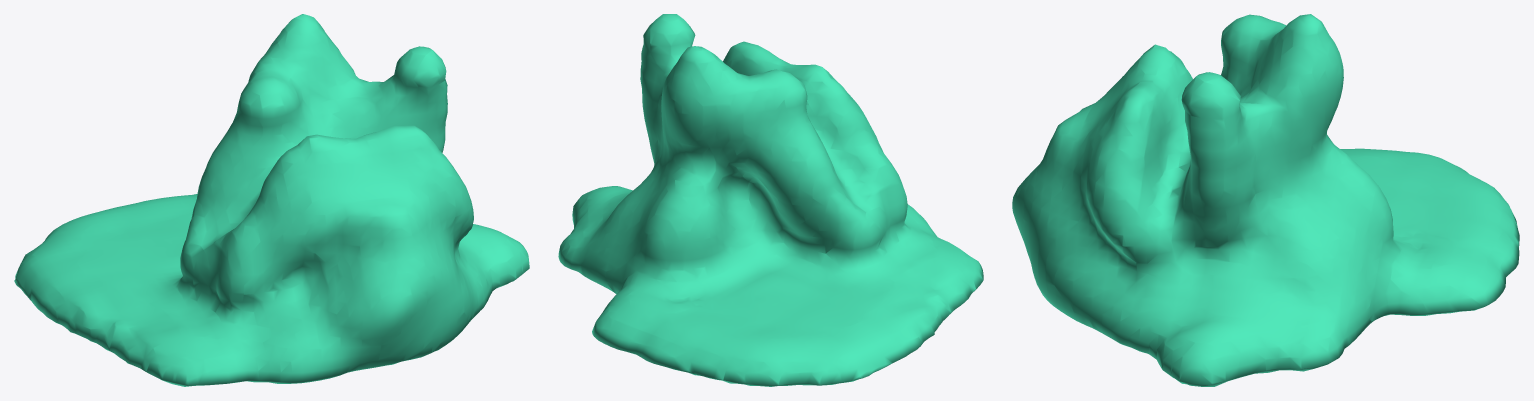
The picture shows the model from 3 angles, left to right: view 1: azimuth 30°, elevation 25°; view 2: azimuth 150°, elevation 25°; view 3: azimuth 270°, elevation 25°; orthographic projection. The views are drawn at different scales.
Visible parts, largest first — view 1: Liquid_Domain; view 2: Liquid_Domain; view 3: Liquid_Domain.
Boxes of the visible parts, box(x1,y1,x2,y2) form: Liquid_Domain: box(14, 14, 529, 386); Liquid_Domain: box(558, 14, 983, 386); Liquid_Domain: box(1012, 14, 1519, 386).
Size of the model in its own units: 6.55 by 3.9 by 6.27.
